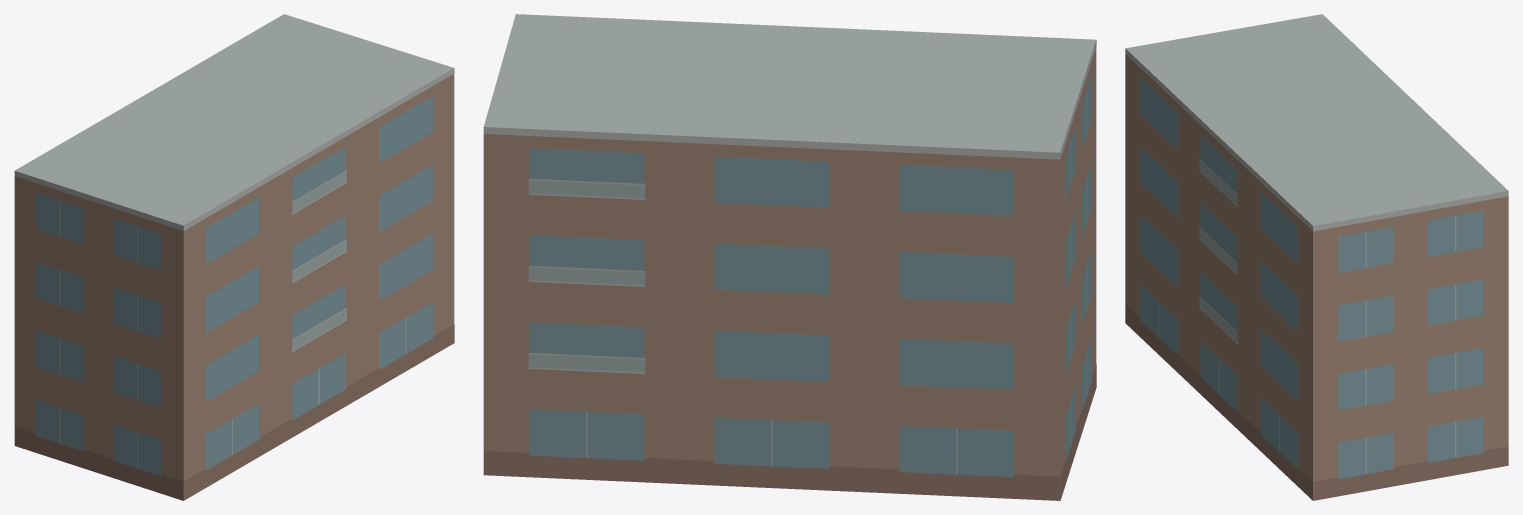
The model's file is survey-upis-32580427.glb.
The picture shows the model from 3 angles, left to right: view 1: azimuth 30°, elevation 25°; view 2: azimuth 150°, elevation 25°; view 3: azimuth 270°, elevation 25°; orthographic projection. The views are drawn at different scales.
Visible parts, largest first — view 1: survey-upis-32580427.tmp; view 2: survey-upis-32580427.tmp; view 3: survey-upis-32580427.tmp.
Boxes of the visible parts, left/top/right/bottom form: survey-upis-32580427.tmp: left=14, top=14, right=454, bottom=500; survey-upis-32580427.tmp: left=483, top=14, right=1096, bottom=500; survey-upis-32580427.tmp: left=1125, top=14, right=1508, bottom=500.
Size of the model in its own units: 20.37 by 12.3 by 15.55.
